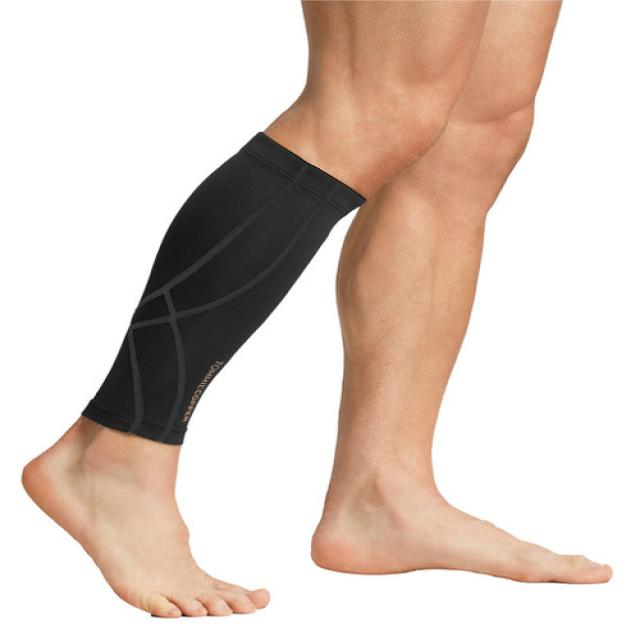Normal: (192, 70, 518, 445)
